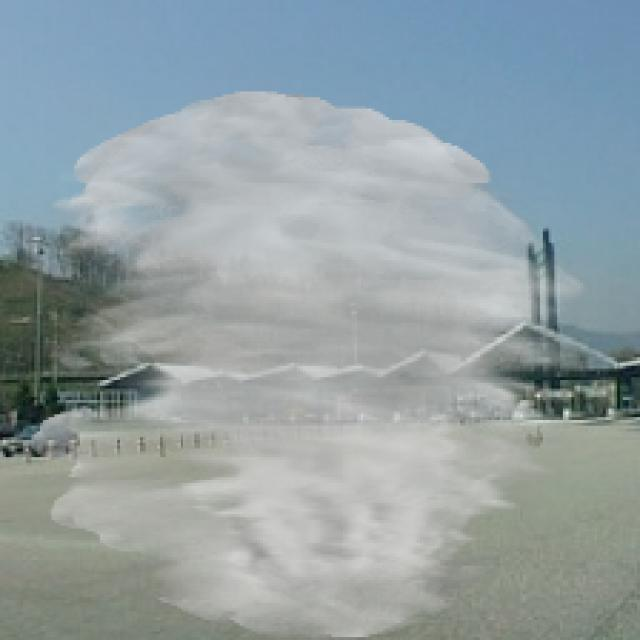Smoke: (29, 92, 598, 638)
